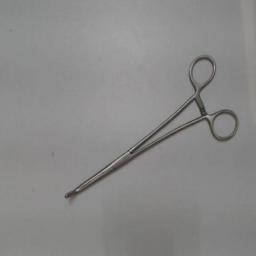Lahey Forceps: (57, 43, 241, 209)
